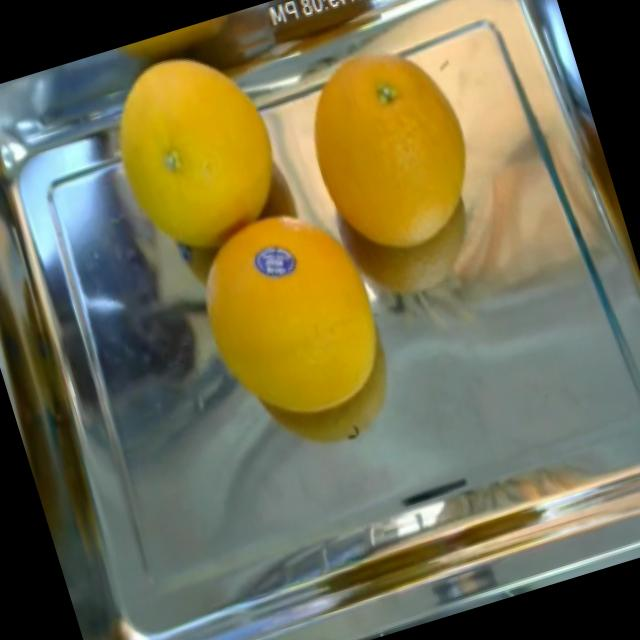Fruit: (80, 17, 300, 252)
